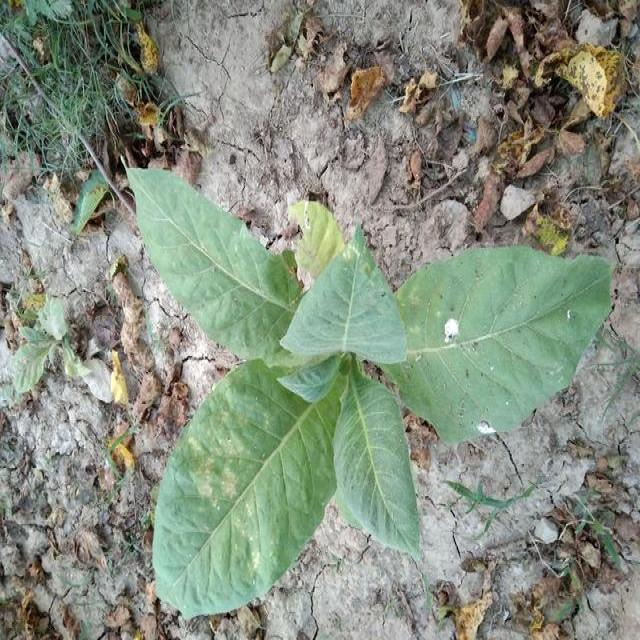crop: (124, 160, 616, 632)
